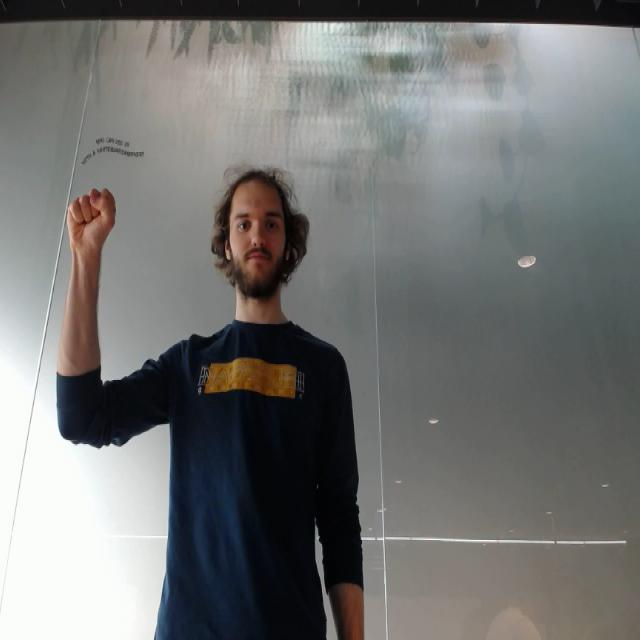stop: (65, 183, 120, 260)
